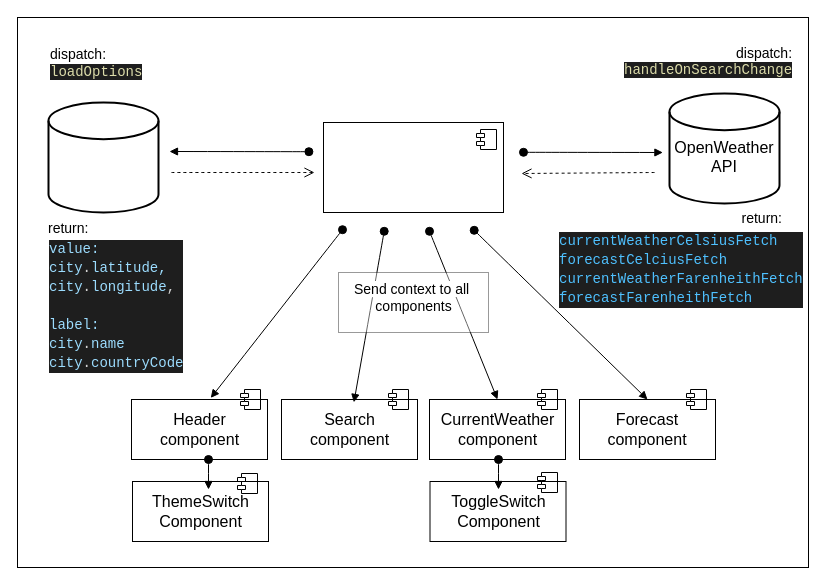
Image size: 826x585. Some labels were removed from this diagram. The box of each missing label's shape, as (x1, y1, x2, y2) in pixels:
App component: (322, 122, 504, 212)
GeoDB API: (47, 101, 159, 213)
